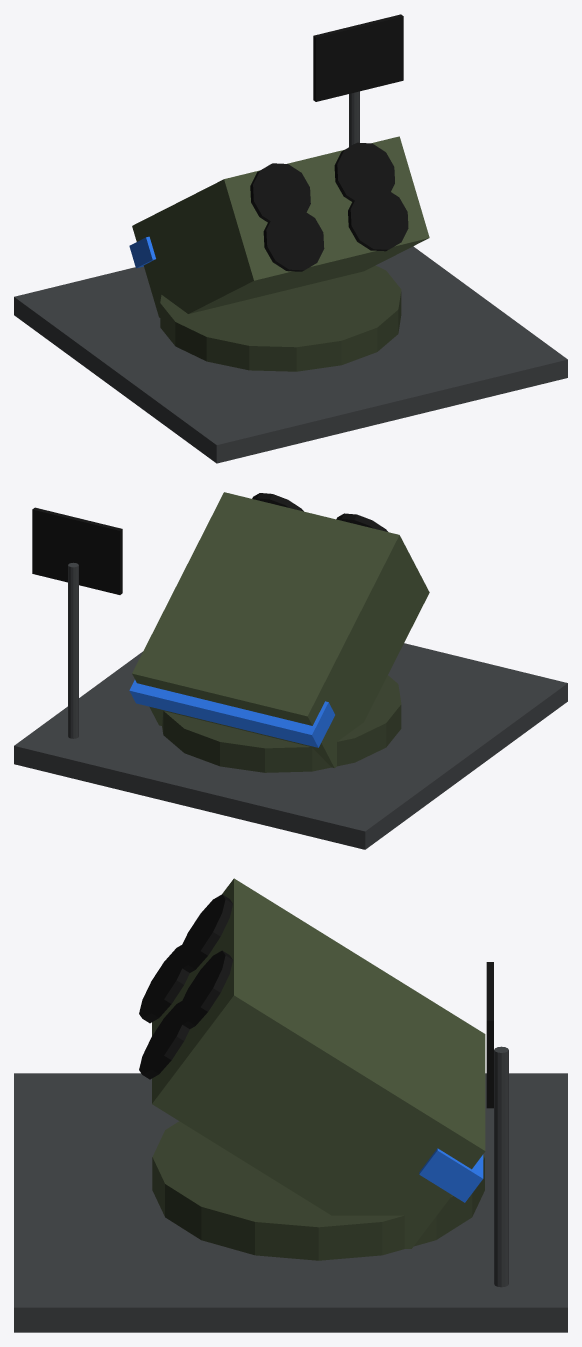
Rendered from kp_sam_site.glb.
The picture shows the model from 3 angles, top to bottom: view 1: azimuth 30°, elevation 25°; view 2: azimuth 150°, elevation 25°; view 3: azimuth 270°, elevation 25°; orthographic projection. The views are drawn at different scales.
Visible parts, largest first — view 1: base, barrel, turret, radar_panel, tube_3, tube_2, tube_0, tube_1, radar_mast, team_band; view 2: barrel, base, turret, radar_panel, team_band, radar_mast; view 3: base, barrel, turret, radar_mast, tube_2, tube_3, team_band, tube_1, tube_0, radar_panel.
Part boxes in pixels (<box>): base: <box>14,246,567,463</box>; barrel: <box>132,136,429,317</box>; turret: <box>160,265,401,371</box>; radar_panel: <box>313,14,403,101</box>; tube_3: <box>334,142,394,204</box>; tube_2: <box>250,163,310,225</box>; tube_0: <box>263,208,324,271</box>; tube_1: <box>348,188,408,251</box>; radar_mast: <box>349,91,359,146</box>; team_band: <box>129,236,155,268</box>; barrel: <box>132,492,429,767</box>; base: <box>14,643,567,849</box>; turret: <box>162,675,401,772</box>; radar_panel: <box>32,507,122,594</box>; team_band: <box>129,680,334,747</box>; radar_mast: <box>68,562,78,738</box>; base: <box>14,1073,567,1332</box>; barrel: <box>152,878,485,1248</box>; turret: <box>152,1121,484,1260</box>; radar_mast: <box>494,1046,508,1287</box>; tube_2: <box>175,894,232,972</box>; tube_3: <box>177,950,232,1028</box>; team_band: <box>419,1148,483,1202</box>; tube_1: <box>139,1001,189,1079</box>; tube_0: <box>139,945,189,1023</box>; radar_panel: <box>486,962,493,1108</box>.
Size of the model in its own units: 6.15 by 3.8 by 6.
